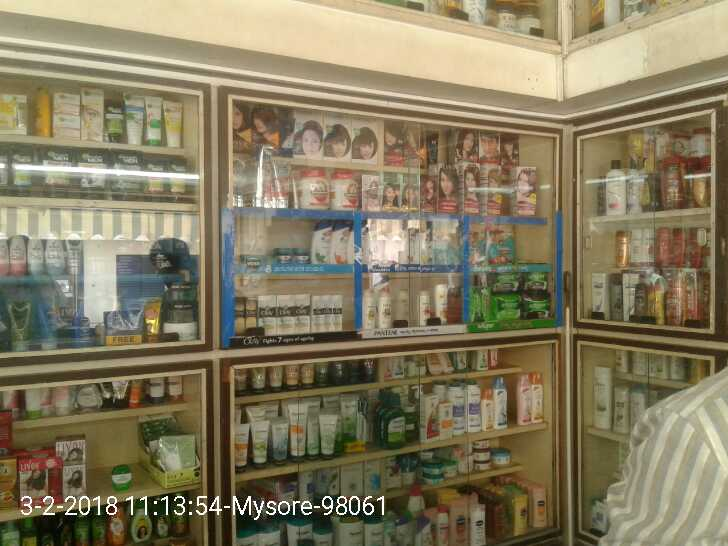beauty: (256, 295, 277, 337), (330, 219, 350, 261), (276, 296, 295, 336), (312, 220, 330, 262), (295, 294, 312, 333), (380, 293, 396, 331), (362, 292, 376, 333), (416, 290, 432, 325), (436, 284, 450, 321), (321, 295, 333, 331), (332, 293, 343, 332), (311, 295, 321, 333)
pharmacy: (487, 226, 518, 265), (486, 295, 523, 321), (468, 225, 486, 264), (521, 296, 550, 318), (491, 271, 520, 292), (521, 274, 550, 290), (289, 250, 310, 263), (273, 248, 290, 264)
